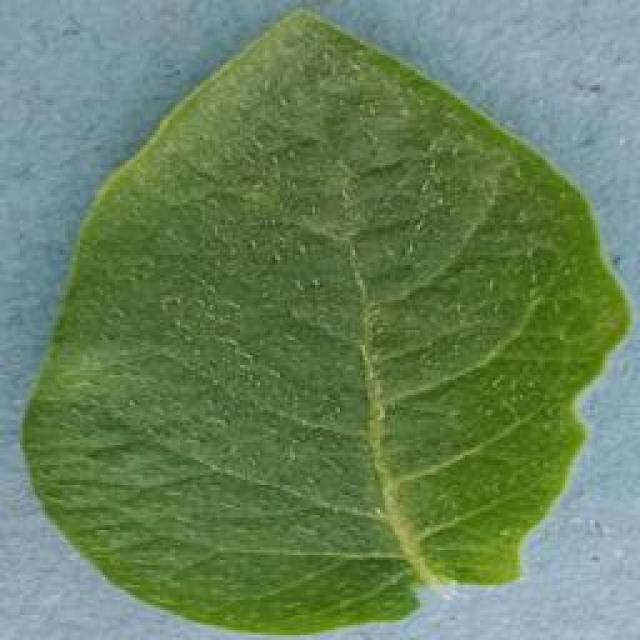Potato_Healthy: (9, 4, 636, 631)
